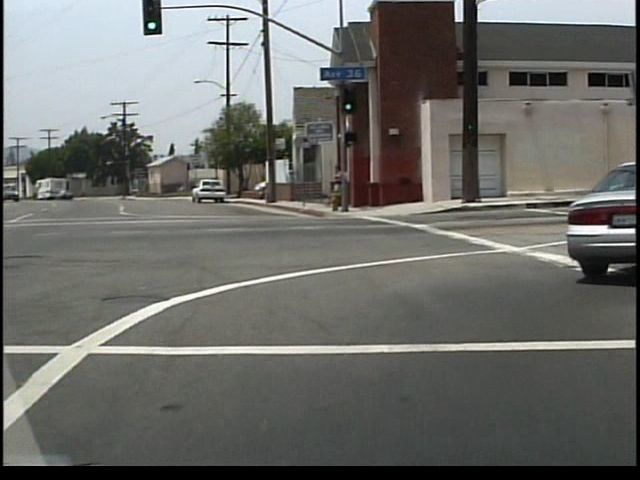person: (336, 165, 353, 213)
